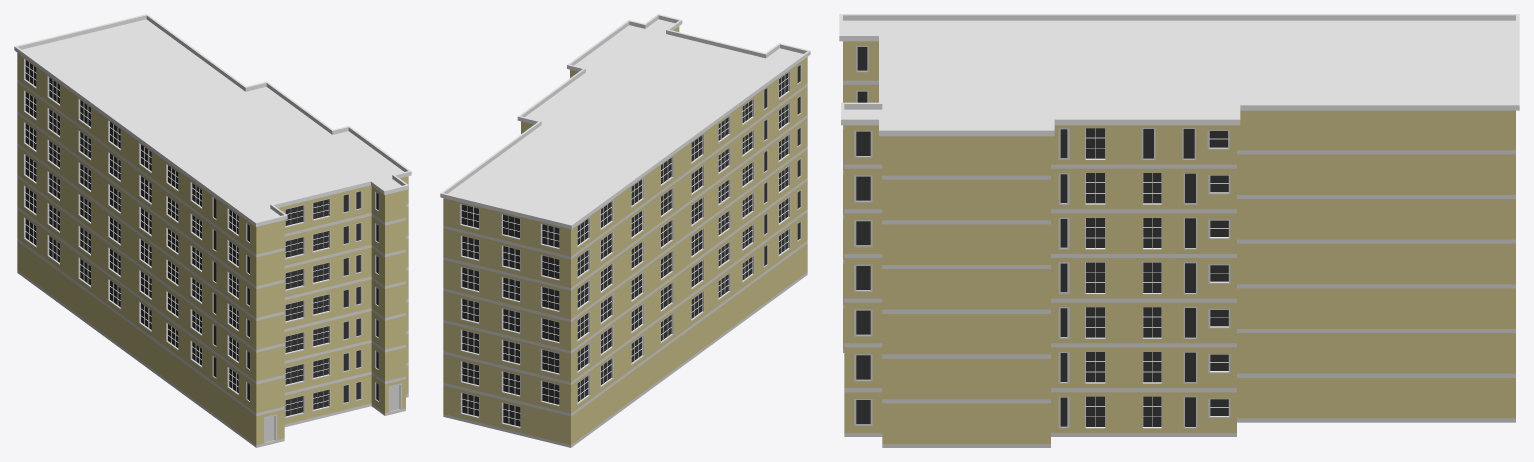
File: Apartment 2.fbx
3 renders of one model, left to right at view 1: azimuth 30°, elevation 25°; view 2: azimuth 150°, elevation 25°; view 3: azimuth 270°, elevation 25°, orthographic. The views are drawn at different scales.
Parts seen in each view (by area): view 1: building_003; view 2: building_003; view 3: building_003.
Boxes of the visible parts, bbox=[...] form: building_003: bbox=[14, 14, 411, 447]; building_003: bbox=[440, 14, 810, 447]; building_003: bbox=[839, 14, 1519, 447].
Size of the model in its own units: 1232 by 1567 by 3034.
